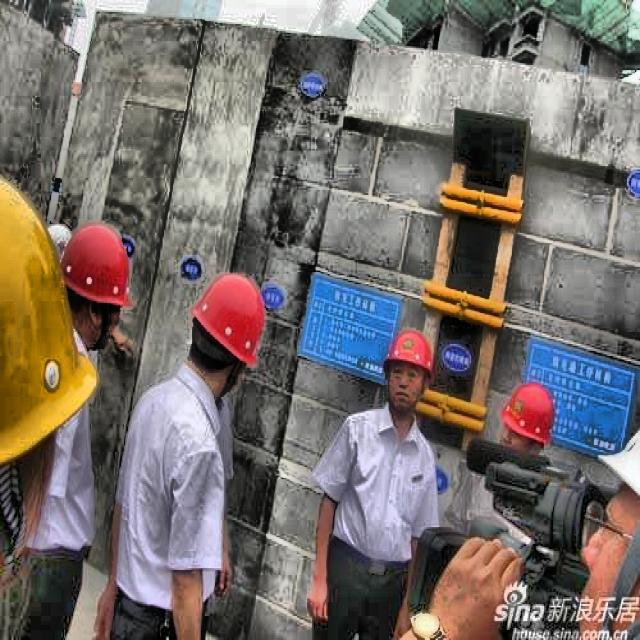helmet: (1, 166, 96, 563), (186, 267, 270, 400), (55, 215, 131, 362), (382, 320, 436, 419), (499, 378, 558, 464)
